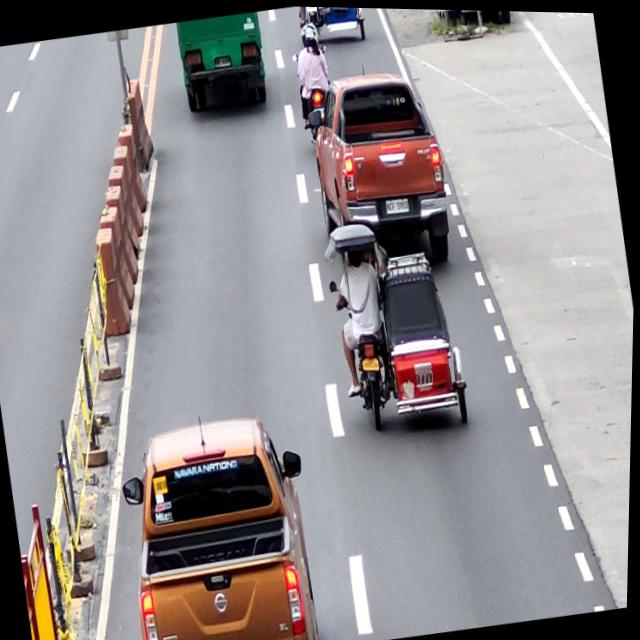Car: (113, 409, 332, 640), (300, 59, 461, 278)
License-Plate: (385, 194, 412, 215), (362, 355, 383, 372)
Tricycle: (318, 209, 480, 444), (297, 5, 368, 48)
Truck: (173, 9, 274, 116)
